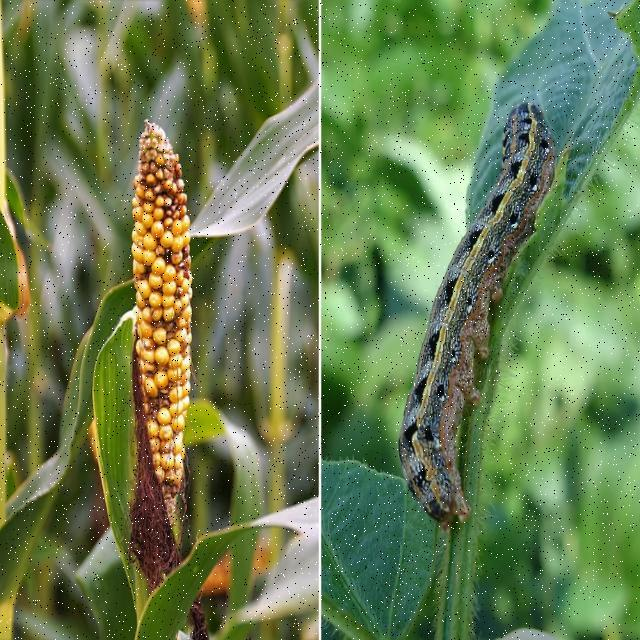army worm: (396, 86, 577, 561)
